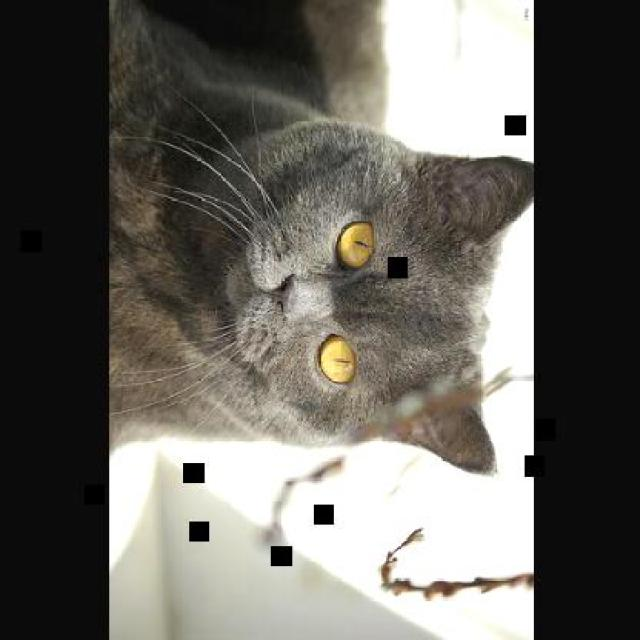unauthorized: (108, 0, 532, 477)
